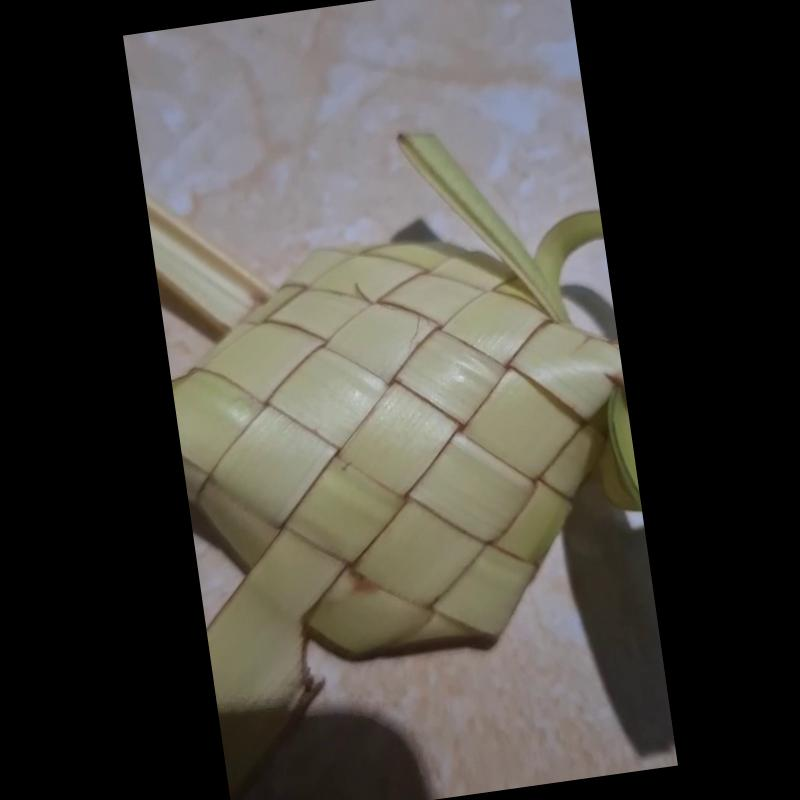Tipat Dampulan: (144, 119, 640, 800)
